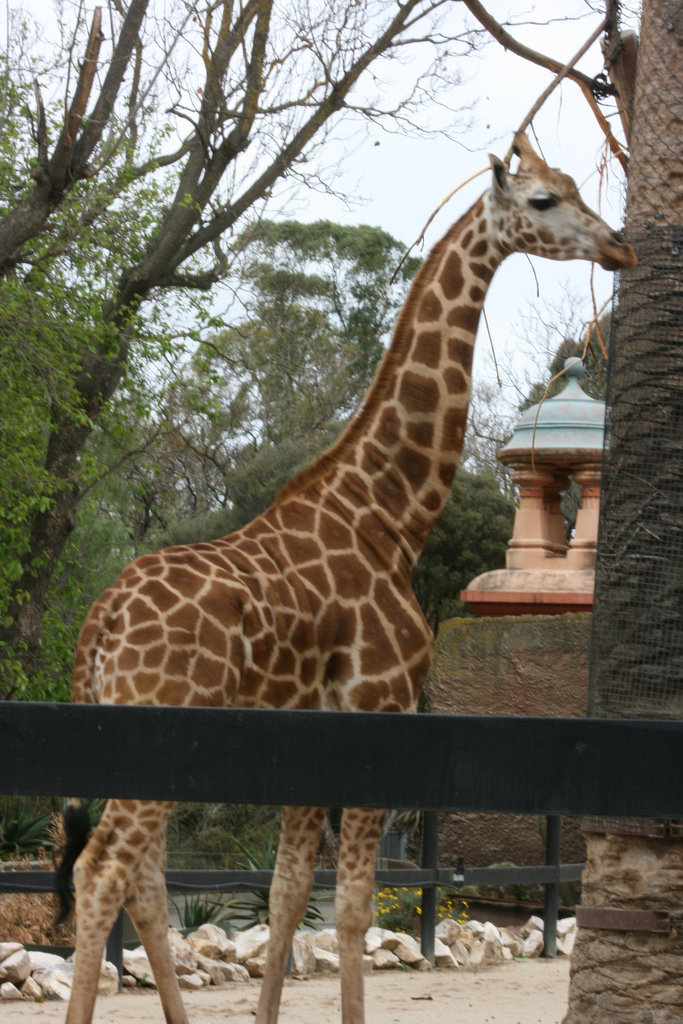giraffe: (71, 123, 637, 927)
